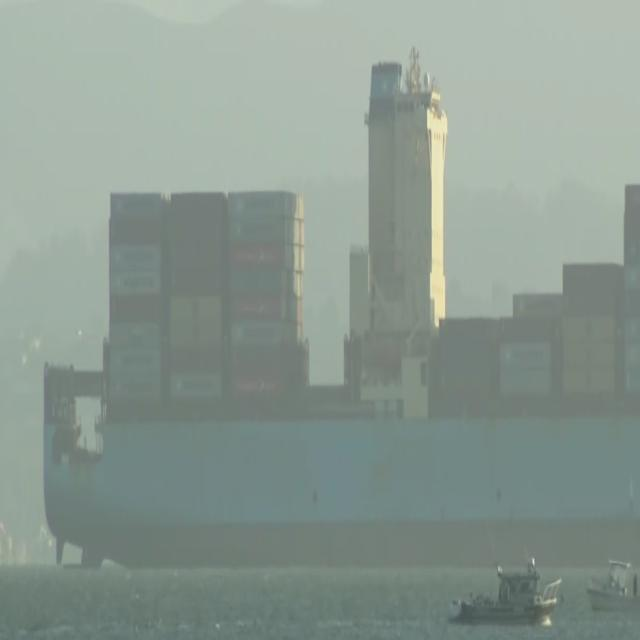cargoship: (37, 47, 640, 551)
houseboat: (449, 555, 565, 631), (583, 549, 640, 622)
